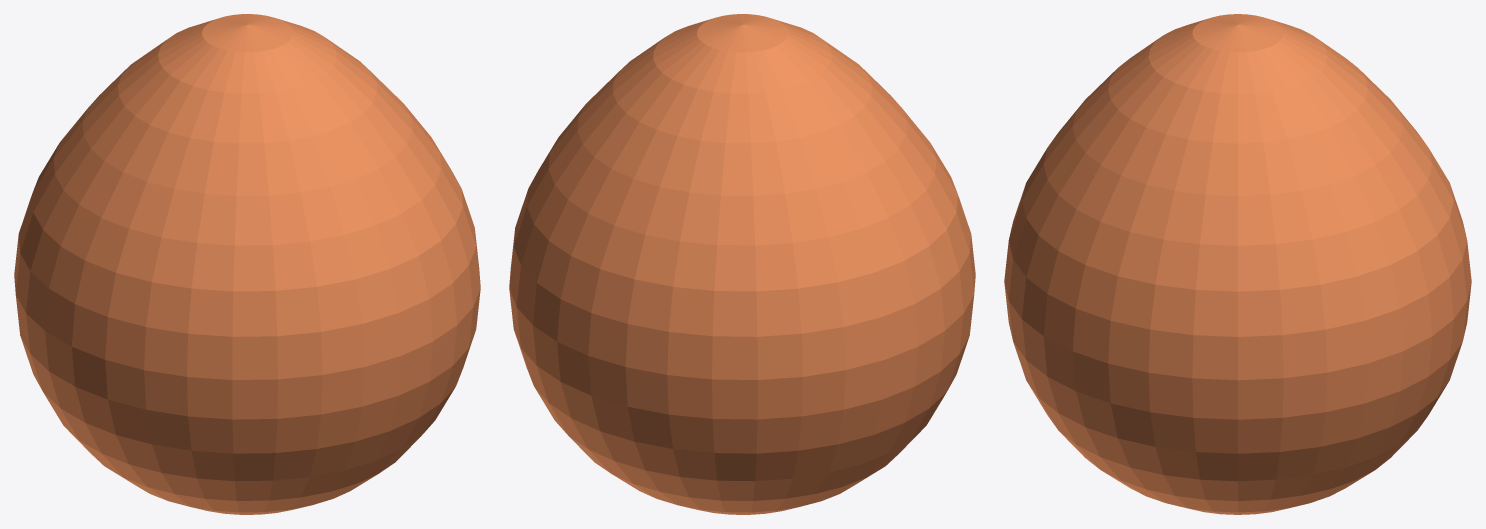
Rendered from hzl1.fbx.
3 renders of one model, left to right at view 1: azimuth 30°, elevation 25°; view 2: azimuth 150°, elevation 25°; view 3: azimuth 270°, elevation 25°, orthographic.
Visible parts, largest first — view 1: Sphere; view 2: Sphere; view 3: Sphere.
Part boxes in pixels (x1=…): Sphere: x1=14, y1=14, x2=480, y2=514; Sphere: x1=509, y1=14, x2=975, y2=514; Sphere: x1=1004, y1=14, x2=1471, y2=514.
Size of the model in its own units: 72.59 by 80.29 by 72.59.
